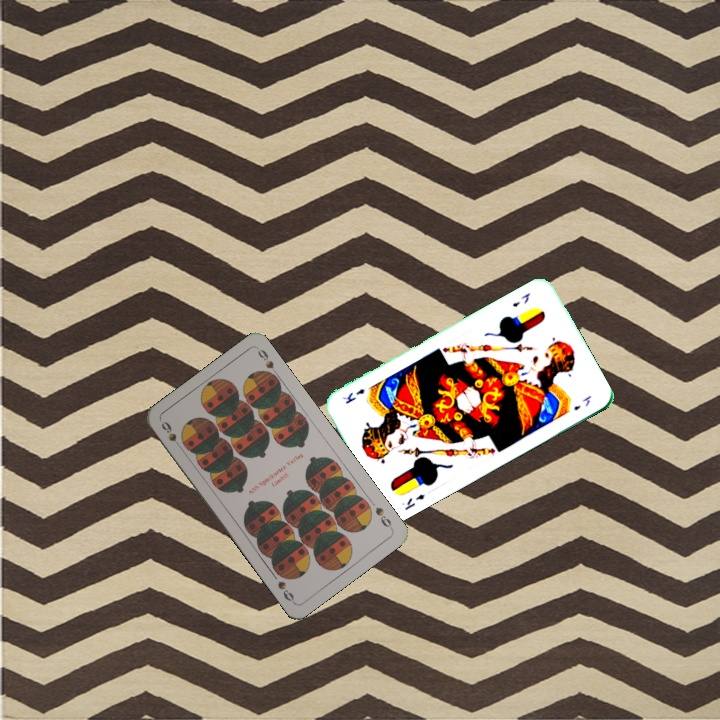EK: (401, 490, 427, 512), (508, 288, 533, 310)
S9: (157, 417, 185, 453), (371, 503, 395, 532)
